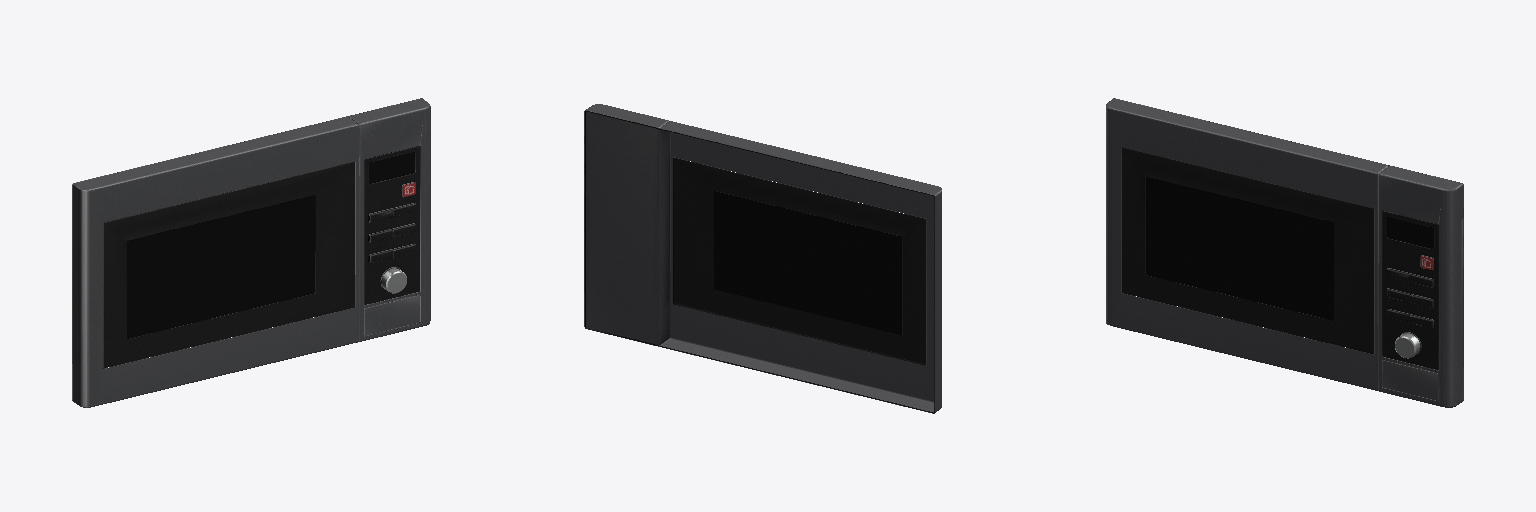
The picture shows the model from 3 angles: view 1: azimuth 30°, elevation 25°; view 2: azimuth 150°, elevation 25°; view 3: azimuth 330°, elevation 25°; orthographic projection.
Parts seen in each view (by area): view 1: solid_003, solid_001, solid_002, glass_001; view 2: solid_003, solid_001, solid_002; view 3: solid_003, solid_001, solid_002, glass_001.
Part boxes in pixels (bbox=[...]): solid_003: bbox=[72, 98, 430, 407]; solid_001: bbox=[103, 146, 419, 368]; solid_002: bbox=[127, 195, 314, 338]; glass_001: bbox=[369, 152, 414, 183]; solid_003: bbox=[584, 104, 941, 413]; solid_001: bbox=[673, 158, 925, 365]; solid_002: bbox=[714, 191, 901, 334]; solid_003: bbox=[1106, 98, 1463, 407]; solid_001: bbox=[1122, 147, 1438, 369]; solid_002: bbox=[1146, 177, 1333, 320]; glass_001: bbox=[1387, 217, 1433, 248].
Bounding box in the file's own units: 0.4964 × 0.2958 × 0.0408.
Materials: 1 (1 with a texture image).